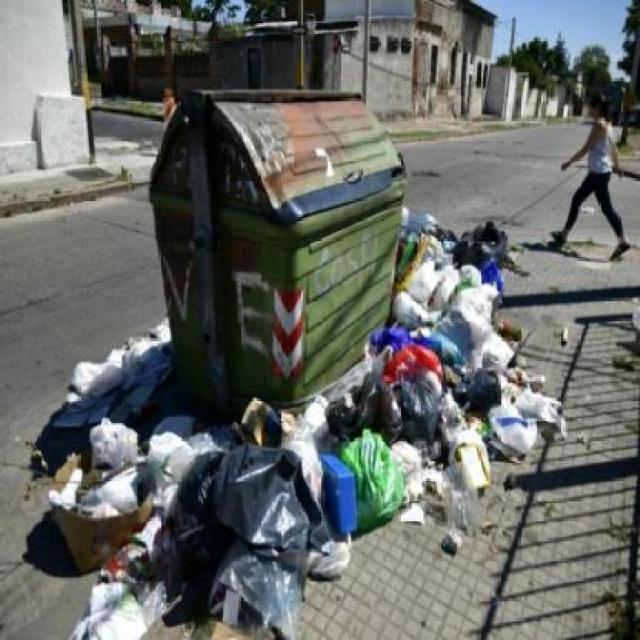garbage: (48, 363, 337, 638), (403, 211, 546, 522), (336, 359, 449, 544), (82, 322, 170, 398)
